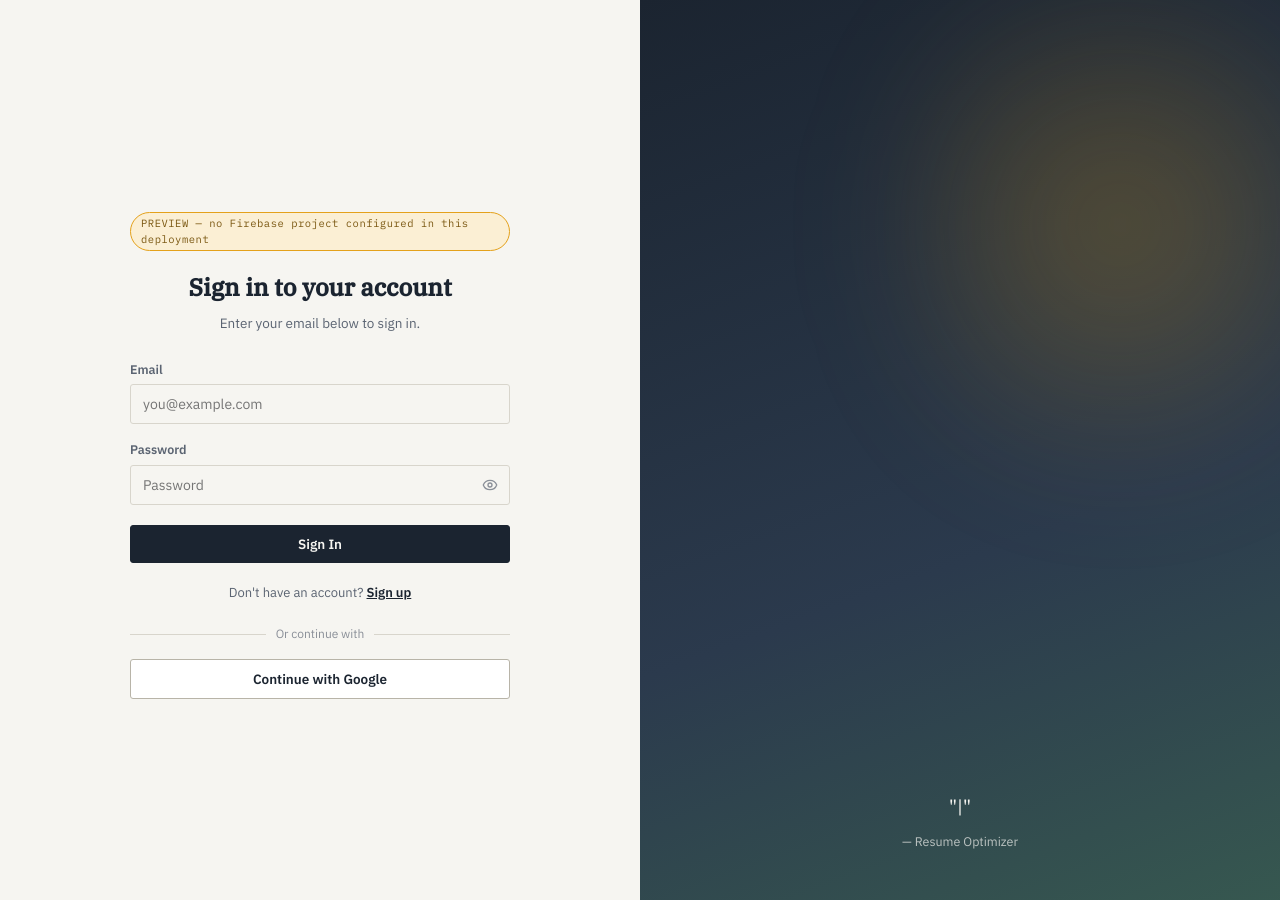
Test: AuthPage › submitting the sign-in form when not configured shows an honest message, not a fake success
Step 1. Type "a@example.com" into the field labelled "Email" → (320, 404), box [130, 384, 510, 424]
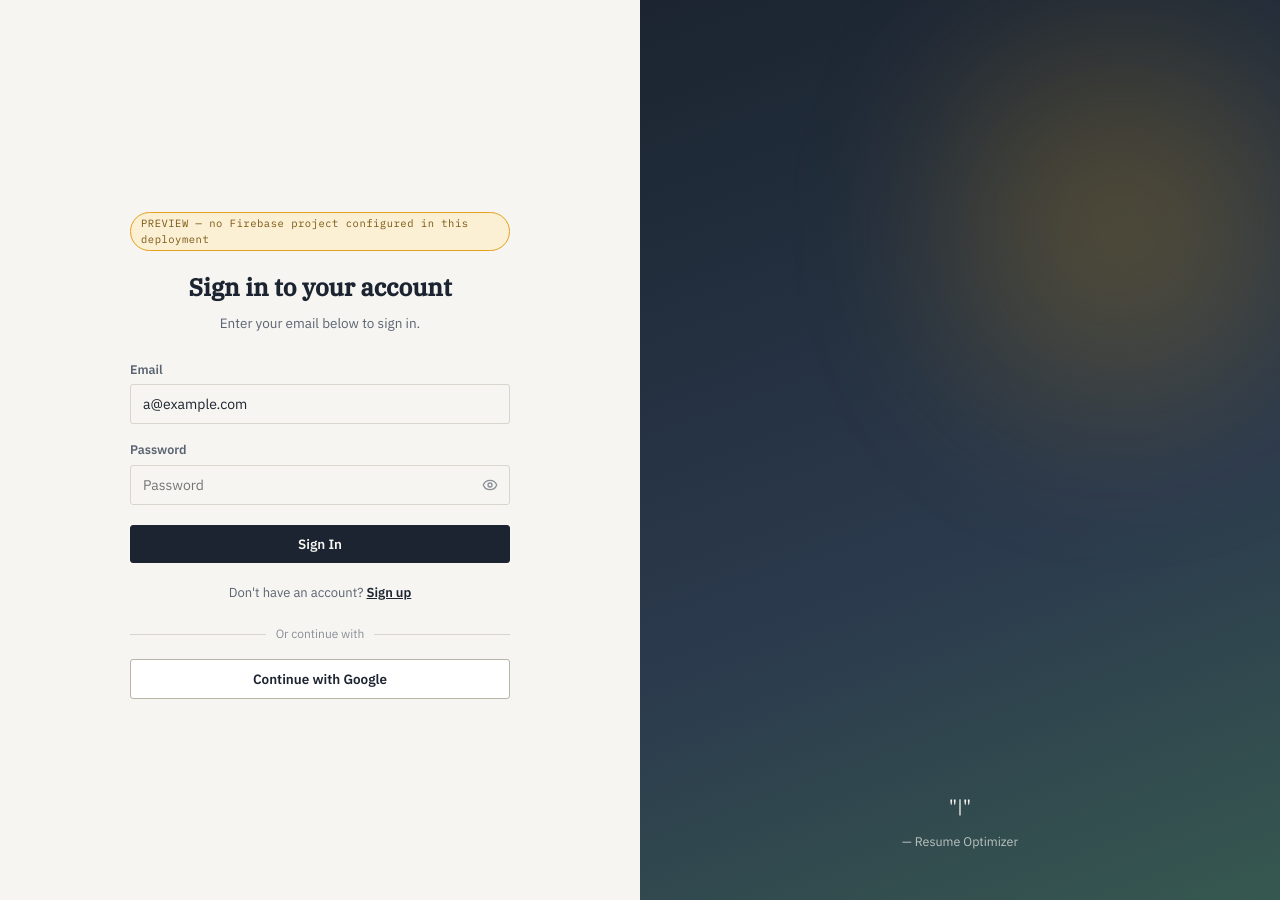
Step 2. Type "hunter2" into the password field labelled "Password" → (320, 485), box [130, 465, 510, 505]
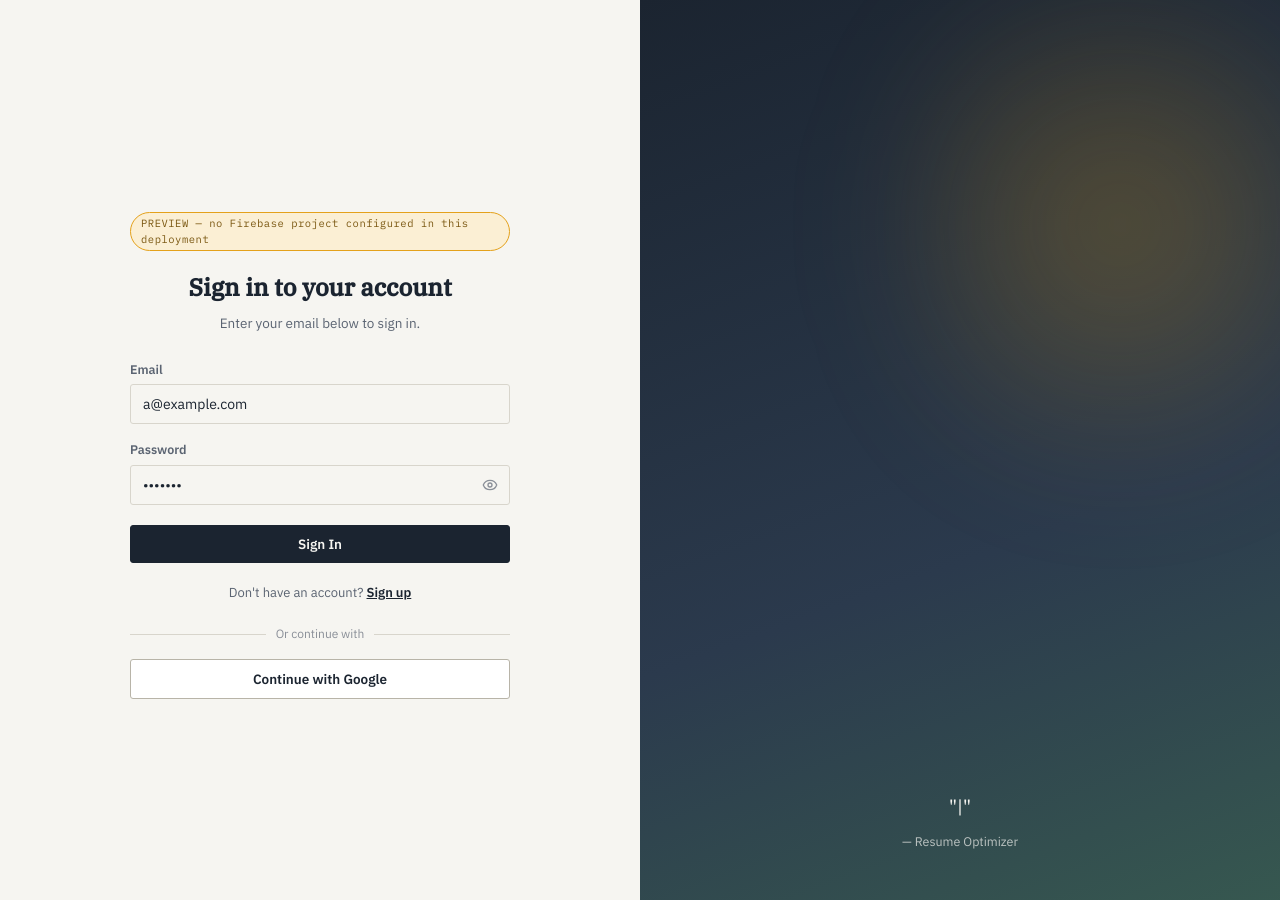
Step 3. Click the button "Sign In" → (320, 544), box [130, 525, 510, 563]
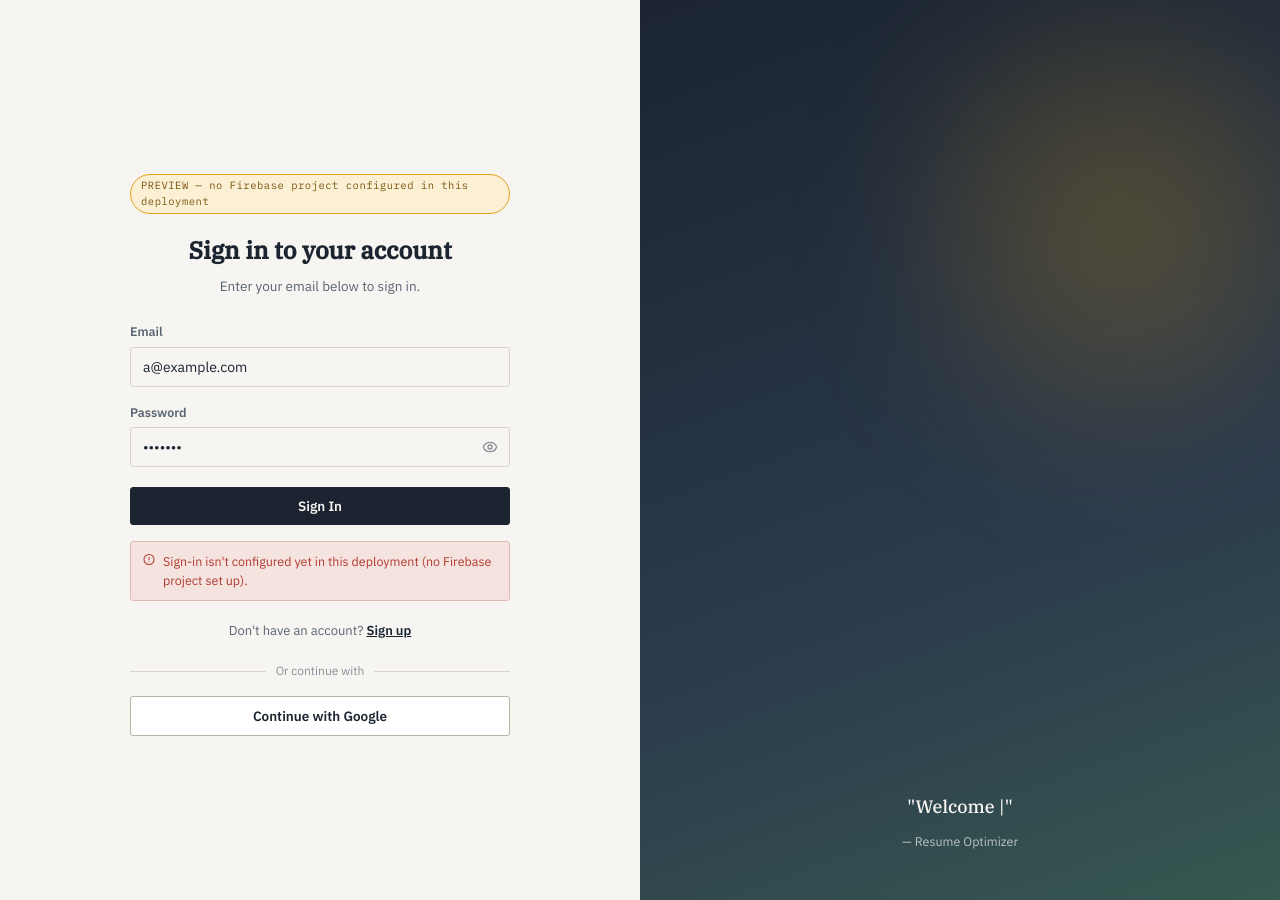
Expected: the text "isn't configured yet" is shown, [163, 553, 491, 588]
